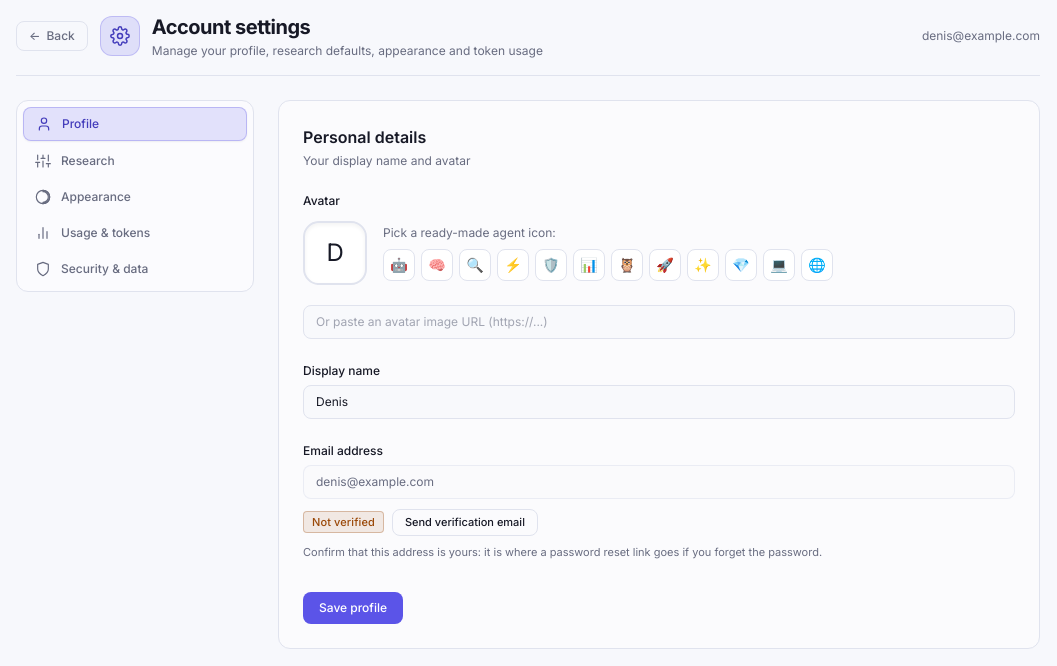
SettingsView › email verification › an address verified meanwhile: says so and shows the new status
This screenshot has width=1057, height=666.
Click the button "Send verification email" at [465, 522], box [392, 509, 538, 536]
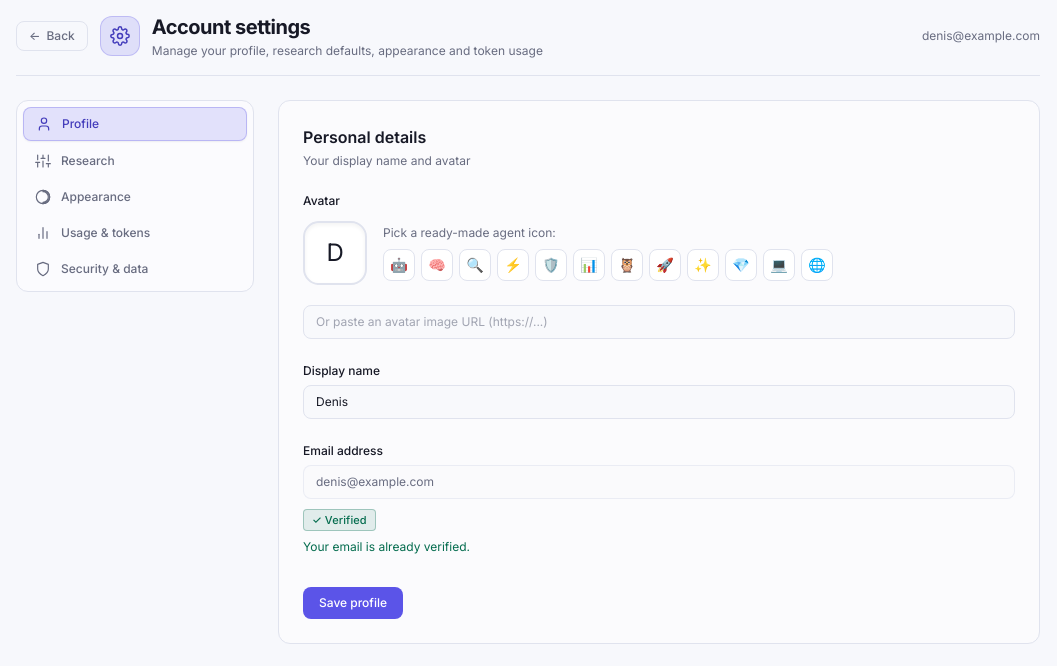
Expected: the text "Verified" is shown, [312, 513, 367, 527]
Expected: the text "Your email is already verified." is shown, [303, 539, 470, 554]
